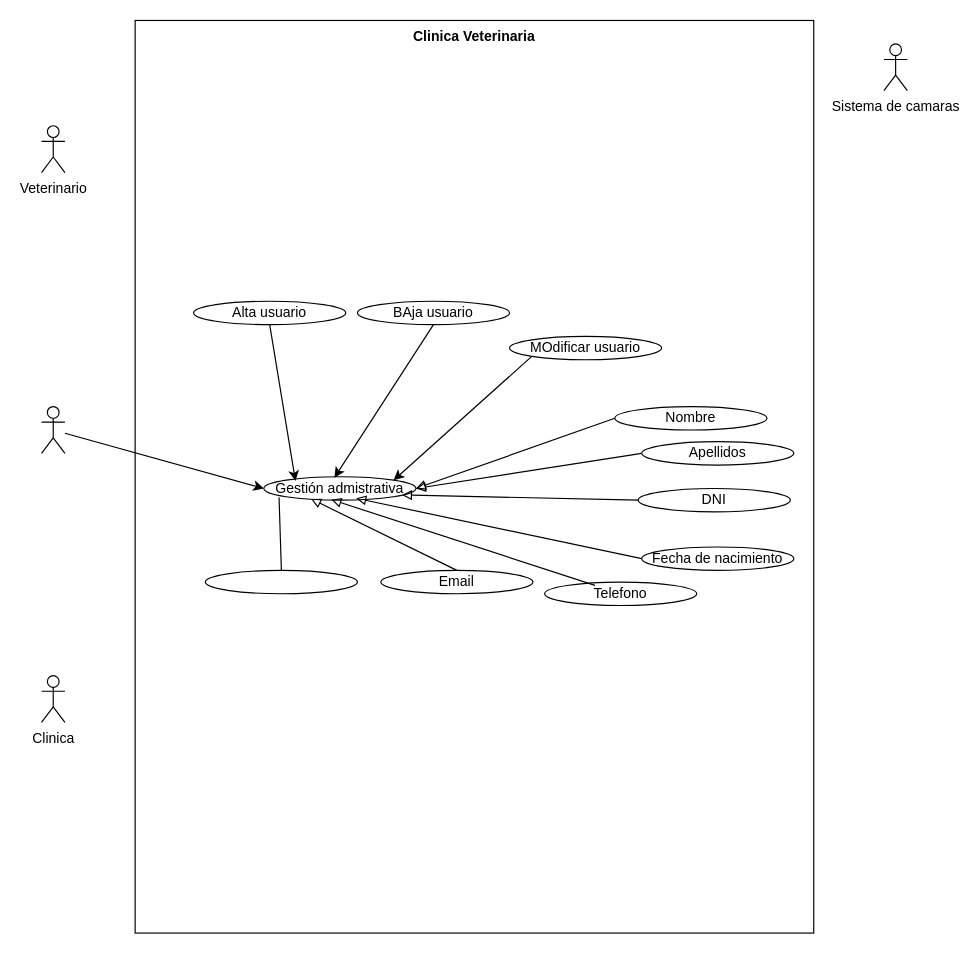
Image size: 979x954. Some labels were removed from this diagram. The shapes that lost their labels are listed below. From the top down, each one's centre as x and y in pixels, then its label:
At (x=52, y=429): "Auxiliares".
At (x=280, y=581): "Usuario".
